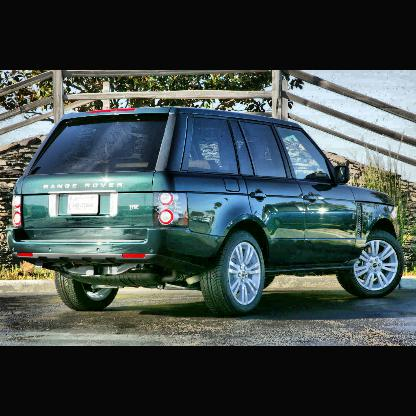Land Rover Range Rover SUV 2012: (7, 107, 406, 320)
